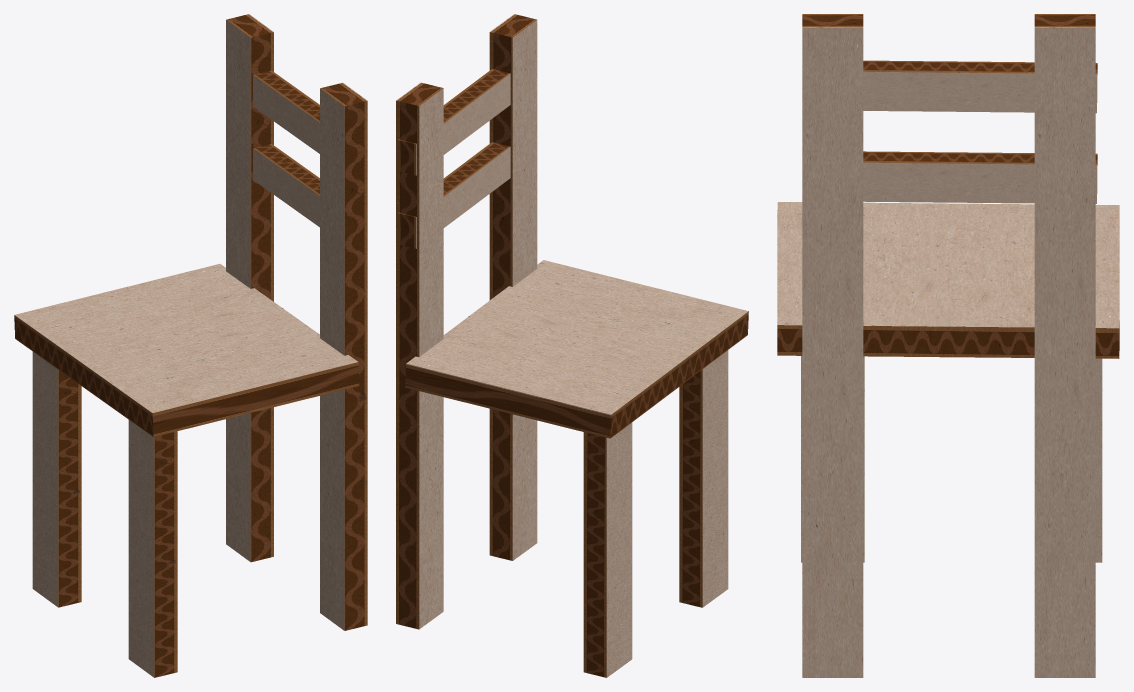
The model's file is chair.fbx.
The picture shows the model from 3 angles, left to right: view 1: azimuth 30°, elevation 25°; view 2: azimuth 150°, elevation 25°; view 3: azimuth 270°, elevation 25°; orthographic projection. The views are drawn at different scales.
Visible parts, largest first — view 1: Chair; view 2: Chair; view 3: Chair.
Boxes of the visible parts, x1,y1,x2,y2 form: Chair: (14,14,367,677); Chair: (396,14,748,677); Chair: (777,14,1119,677).
Size of the model in its own units: 3.35 by 7.46 by 3.56.
